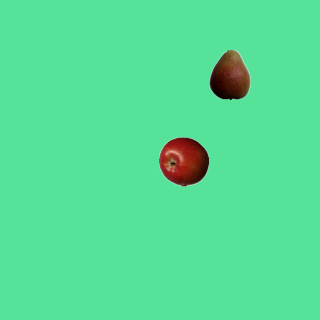Apple Braeburn: (158, 136, 208, 186)
Pear Forelle: (204, 49, 254, 99)
